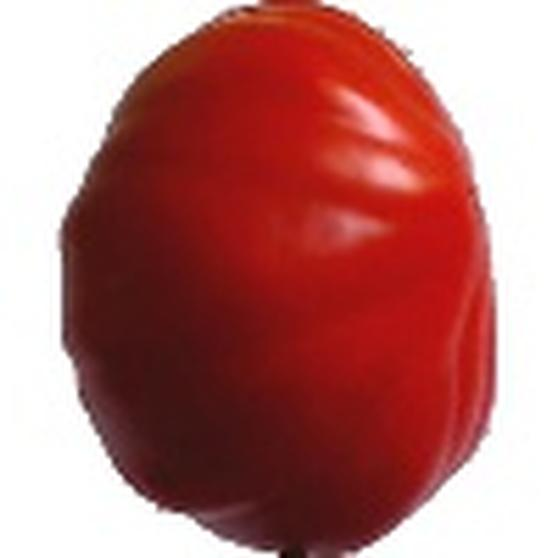tomato: (56, 3, 516, 558)
